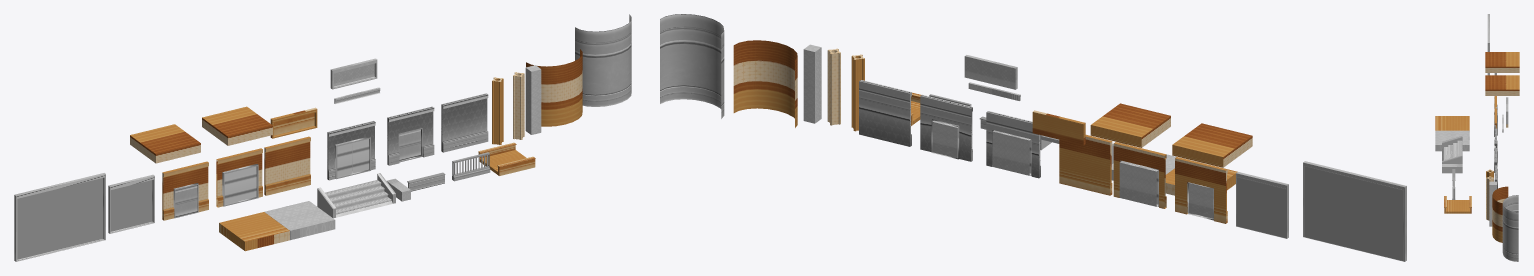
The model's file is servosKit.fbx.
3 views of the same model, side by side, from view 1: azimuth 30°, elevation 25°; view 2: azimuth 150°, elevation 25°; view 3: azimuth 270°, elevation 25° (orthographic). The views are drawn at different scales.
Visible parts, largest first — view 1: glass, roundEdgeWhite, roundEdgeBlack, greyWall, blackWall, bigStairs, squareRoof, patternFloor, whiteRoof, glassPiece, greyDoorWall, tileFloor (+17 smaller); view 2: glass, roundEdgeWhite, roundEdgeBlack, greyWall, blackWall, glassPiece, whiteRoof, squareRoof, blackDoorWall, greyDoorWall, door (×2), elevatorDoorRight (×2) (+10 smaller); view 3: roundEdgeWhite, whiteRoof, squareRoof, roundEdgeBlack, bigStairs, patternFloor, tileFloor, bridge, CubedColumn, stairSide, columnWhite, glassWallBig (+2 smaller).
Part boxes in pixels (<box>): glass: <box>17,178,102,259</box>; roundEdgeWhite: <box>575,14,631,106</box>; roundEdgeBlack: <box>526,49,582,126</box>; greyWall: <box>441,93,488,152</box>; blackWall: <box>264,136,310,195</box>; bigStairs: <box>317,173,395,218</box>; squareRoof: <box>202,106,272,145</box>; patternFloor: <box>219,212,289,251</box>; whiteRoof: <box>130,124,200,163</box>; glassPiece: <box>110,180,152,231</box>; greyDoorWall: <box>387,106,434,165</box>; tileFloor: <box>264,201,335,240</box>; glass: <box>1304,166,1403,260</box>; roundEdgeWhite: <box>660,14,724,118</box>; roundEdgeBlack: <box>733,40,797,127</box>; greyWall: <box>859,80,911,146</box>; blackWall: <box>1059,134,1112,195</box>; glassPiece: <box>1237,177,1286,237</box>; whiteRoof: <box>1172,123,1252,167</box>; squareRoof: <box>1090,103,1170,147</box>; blackDoorWall: <box>1175,157,1227,223</box>; greyDoorWall: <box>920,94,972,161</box>; door (×2): <box>932,121,1213,218</box>; elevatorDoorRight (×2): <box>1011,135,1158,206</box>; roundEdgeWhite: <box>1502,195,1518,261</box>; whiteRoof: <box>1485,52,1519,72</box>; squareRoof: <box>1485,75,1519,95</box>; roundEdgeBlack: <box>1492,186,1508,242</box>; bigStairs: <box>1442,136,1462,163</box>; patternFloor: <box>1435,116,1469,130</box>; tileFloor: <box>1435,130,1469,151</box>; bridge: <box>1444,196,1471,213</box>; CubedColumn: <box>1489,181,1496,226</box>; stairSide: <box>1442,164,1462,173</box>; columnWhite: <box>1486,176,1493,220</box>; glassWallBig: <box>1487,14,1489,75</box>.
Size of what is drawn, in the model's own units: 7069 by 1133 by 1233.
